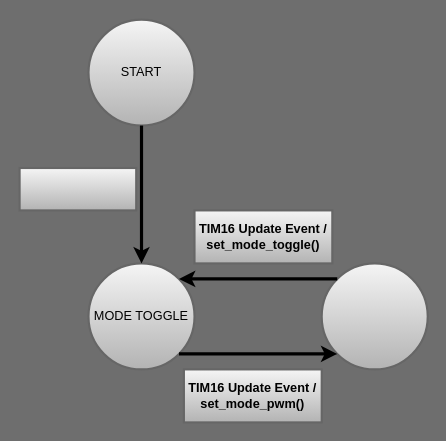
Image size: 446x441. Some labels were removed from this diagram. The centre of each missing label's shape, as x and y in pixels:
"MODE PWM" belongs at [374,316].
"System_Inıt() / set_mode_toggle()" belongs at [77,188].
